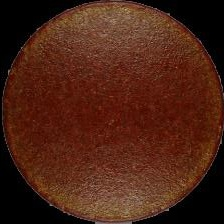33261-150: (0, 0, 224, 224)
